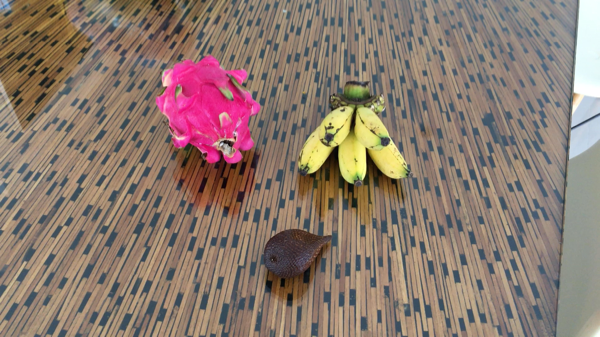banana: (293, 80, 414, 184)
dragon fruit: (154, 57, 263, 166)
snake fruit: (263, 229, 333, 278)
